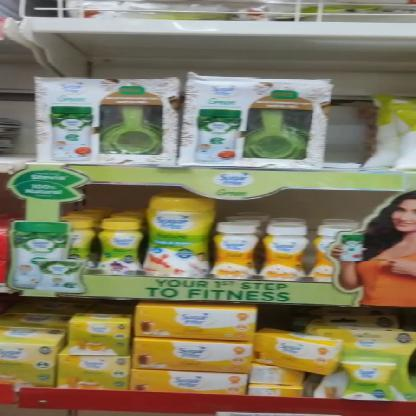SUGAR FREE GOLD POWDER 100GM: (211, 221, 256, 280), (264, 223, 308, 281)
SUGAR FREE GRN 300 PELLET: (312, 333, 415, 400)
SUGAR FREE NATURA DIET SUGAR 80GM: (144, 198, 215, 278)
SUGAR FREE NATURA SACHET 50: (0, 344, 58, 388), (60, 354, 130, 388), (68, 316, 127, 352)
SUGAR FREE NATURA_ POWDER_CONC_100G: (98, 218, 144, 274)
